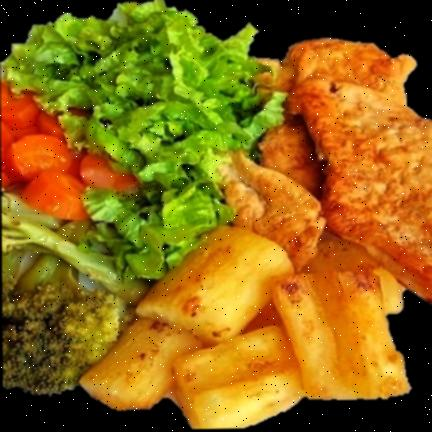broccoli: (2, 251, 148, 396)
carrot: (1, 81, 137, 222)
cassava: (77, 226, 411, 429)
chicken: (213, 38, 432, 299)
salad: (1, 2, 288, 283)
